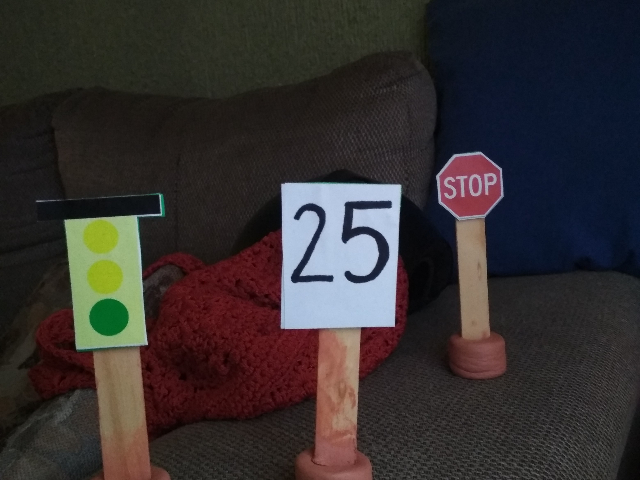Green Traffic Light: (24, 187, 174, 356)
Speed Limit 25: (270, 173, 412, 337)
Stop Sign: (429, 144, 510, 230)
